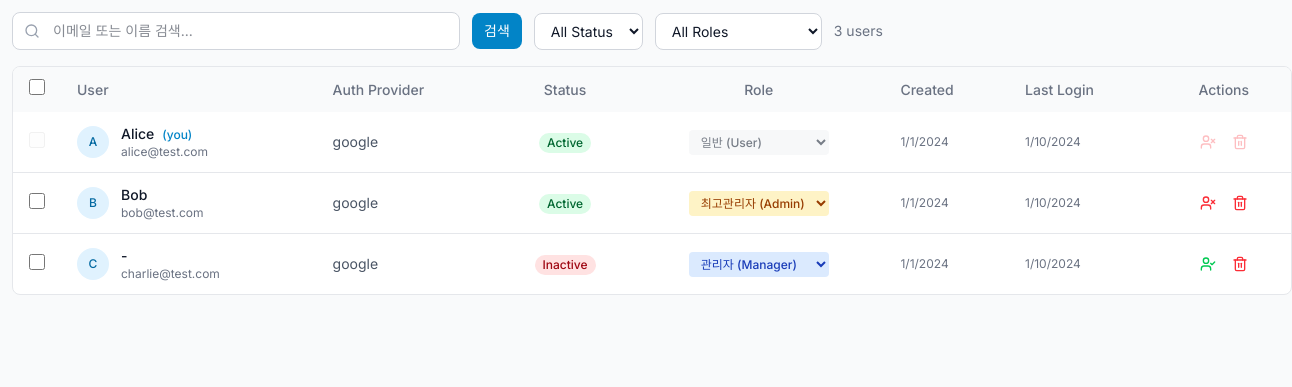
Test: UserManagementTab › deselects all users when select-all is unchecked
// Select all
Step 1. Click the checkbox in the row of "Auth Provider" → (37,87), box [29,79,45,95]
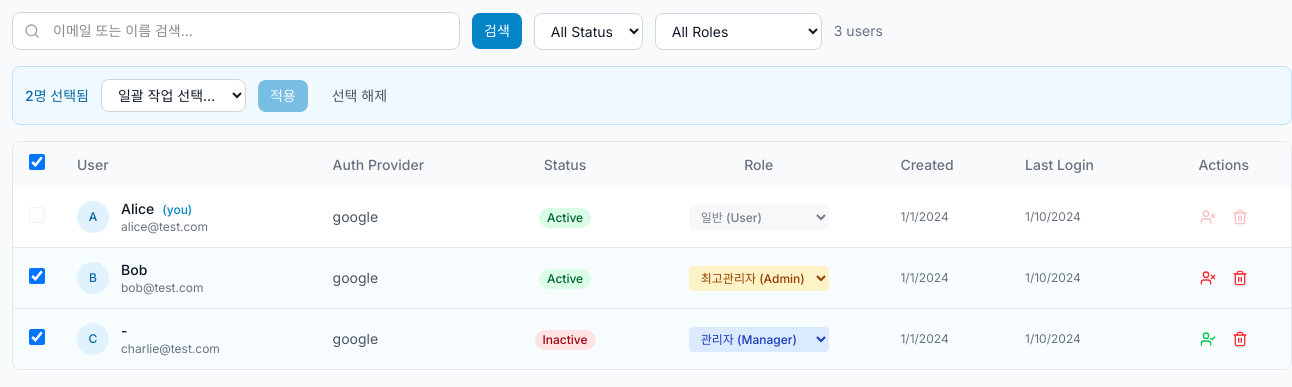
Now the text "2명 선택됨" is shown, box [25,86,89,106]
// Deselect all
Step 2. Click the checkbox in the row of "Auth Provider" → (37,162), box [29,154,45,170]
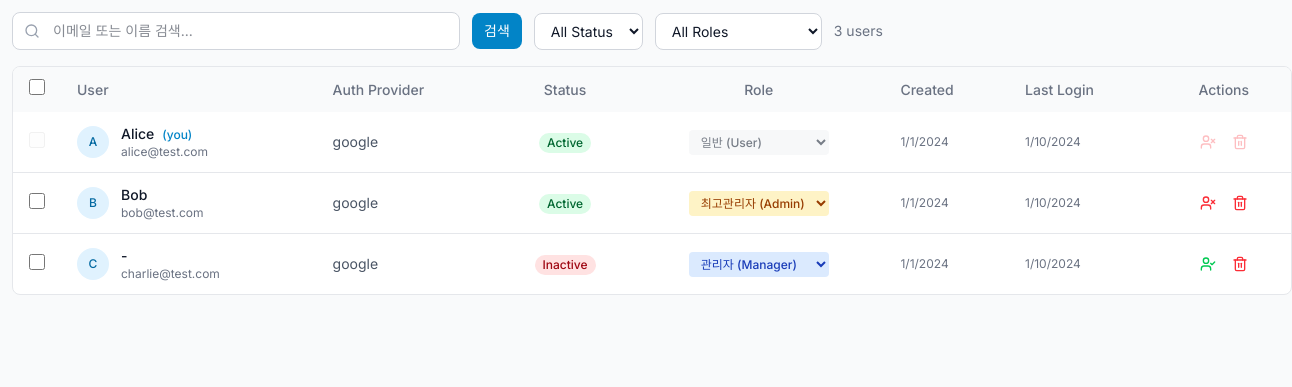
Now the text "2명 선택됨" is gone
